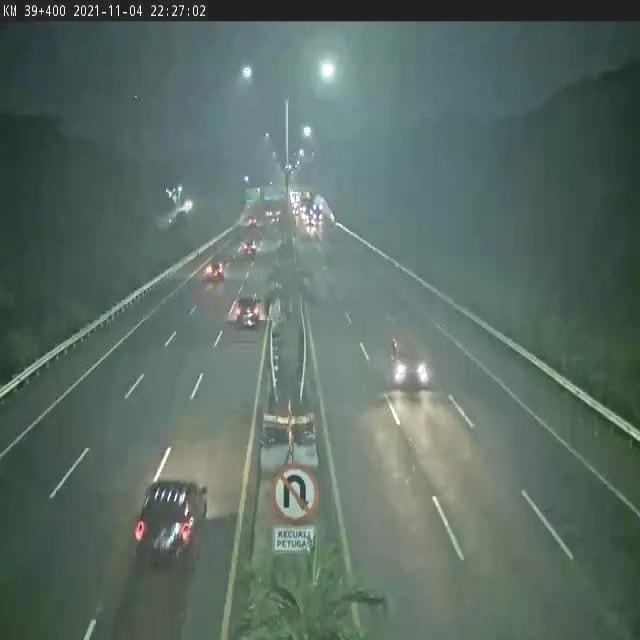Car: (119, 474, 215, 580), (379, 322, 435, 402), (224, 281, 268, 347), (231, 227, 269, 271), (194, 248, 229, 291)
